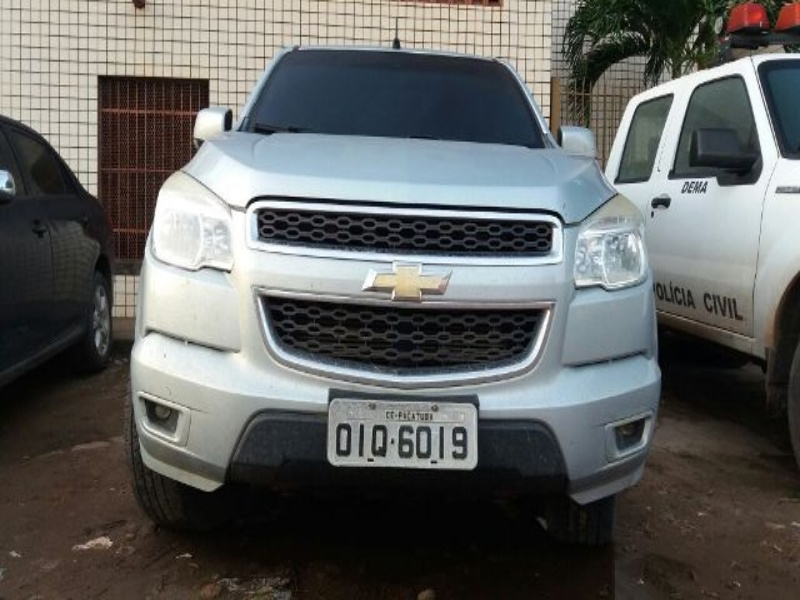placa: (326, 396, 481, 475)
